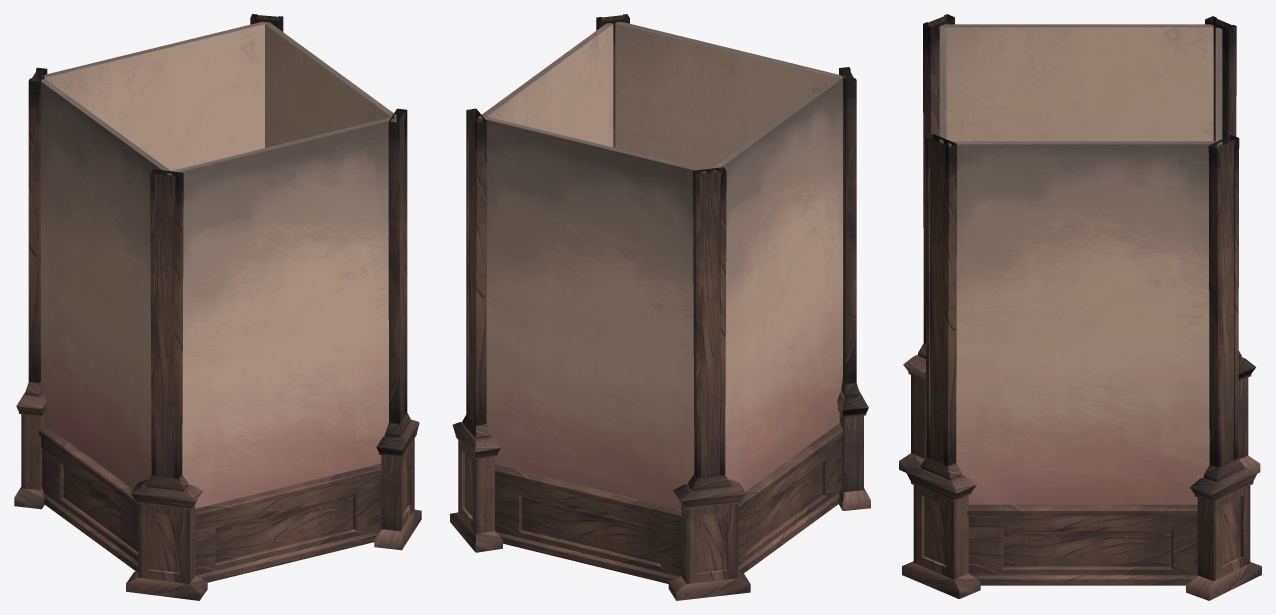
File: Wall_Bot_Pillar_V1.fbx
3 views of the same model, side by side, from view 1: azimuth 30°, elevation 25°; view 2: azimuth 150°, elevation 25°; view 3: azimuth 270°, elevation 25° (orthographic). The views are drawn at different scales.
Parts seen in each view (by area): view 1: Pillar_Bot; view 2: Pillar_Bot; view 3: Pillar_Bot.
Part boxes in pixels (x1,y1,x2,y2): Pillar_Bot: (14, 14, 421, 600); Pillar_Bot: (450, 14, 870, 600); Pillar_Bot: (899, 14, 1261, 600).
Bounding box in the file's own units: 0.0319 × 0.0424 × 0.0316.
